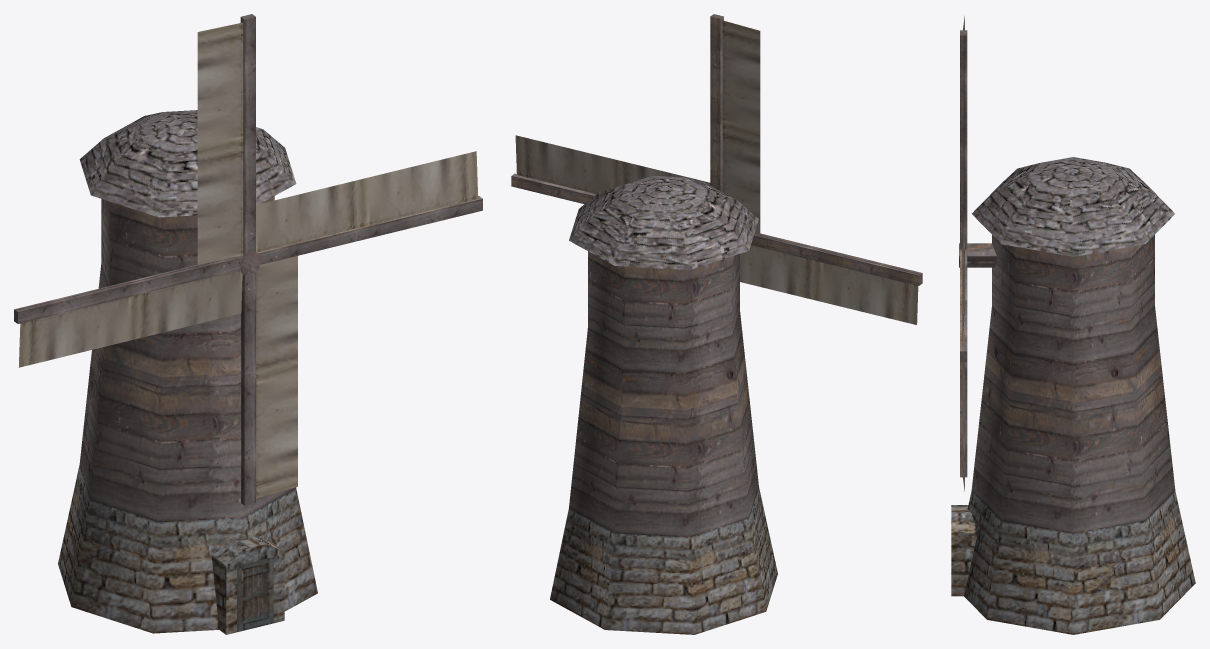
File: windmill_v2.glb
The picture shows the model from 3 angles, left to right: view 1: azimuth 30°, elevation 25°; view 2: azimuth 150°, elevation 25°; view 3: azimuth 270°, elevation 25°; orthographic projection. The views are drawn at different scales.
Parts seen in each view (by area): view 1: Cylinder.002-col, Cylinder.003; view 2: Cylinder.002-col, Cylinder.003; view 3: Cylinder.002-col, Cylinder.003.
Boxes of the visible parts, x1,y1,x2,y2 form: Cylinder.002-col: (58, 110, 317, 634); Cylinder.003: (14, 14, 482, 505); Cylinder.002-col: (550, 175, 777, 634); Cylinder.003: (511, 14, 922, 324); Cylinder.002-col: (951, 157, 1195, 634); Cylinder.003: (959, 16, 996, 491).
Size of the model in its own units: 16.11 by 20.07 by 8.08.
Materials: 1 (1 with a texture image).
